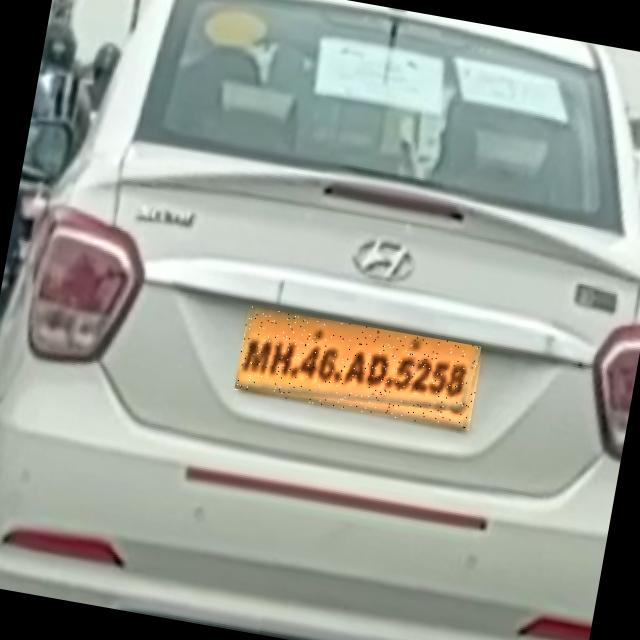Plate: (235, 307, 484, 432)
